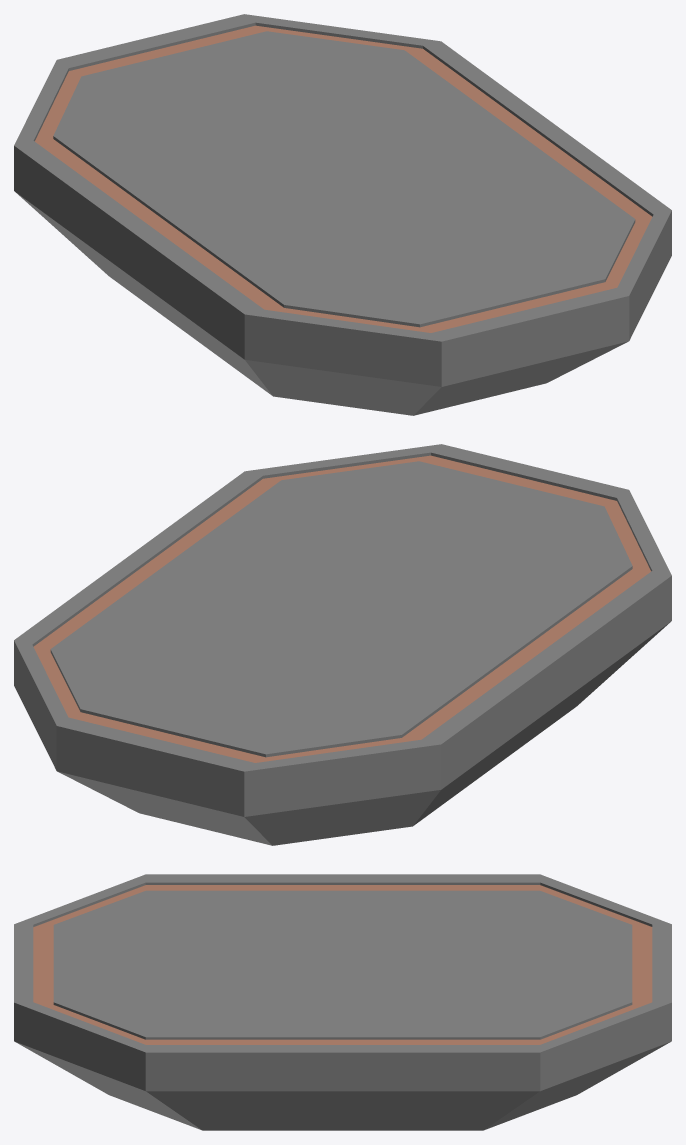
Rendered from table.fbx.
The picture shows the model from 3 angles, top to bottom: view 1: azimuth 30°, elevation 25°; view 2: azimuth 150°, elevation 25°; view 3: azimuth 270°, elevation 25°; orthographic projection. The views are drawn at different scales.
Visible parts, largest first — view 1: Cube.008; view 2: Cube.008; view 3: Cube.008.
Part boxes in pixels (<box>): Cube.008: <box>14,14,671,415</box>; Cube.008: <box>14,444,671,845</box>; Cube.008: <box>14,874,671,1130</box>.
Bounding box in the file's own units: 723 × 196 × 1128.
